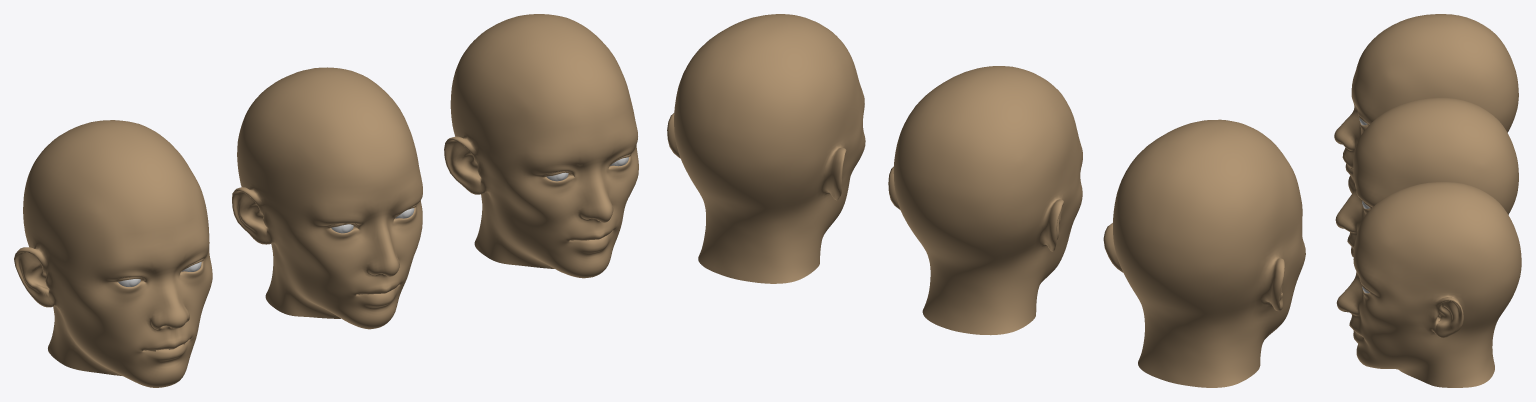
The model's file is headall.fbx.
3 renders of one model, left to right at view 1: azimuth 30°, elevation 25°; view 2: azimuth 150°, elevation 25°; view 3: azimuth 270°, elevation 25°, orthographic. The views are drawn at different scales.
Parts seen in each view (by area): view 1: HG_Body, HG_Body.002, HG_Body.004; view 2: HG_Body, HG_Body.002, HG_Body.004; view 3: HG_Body.002, HG_Body, HG_Body.004.
Part boxes in pixels (bbox=[...]): HG_Body: bbox=[14, 120, 212, 387]; HG_Body.002: bbox=[444, 14, 638, 278]; HG_Body.004: bbox=[232, 67, 422, 329]; HG_Body: bbox=[1103, 119, 1305, 387]; HG_Body.002: bbox=[667, 14, 865, 283]; HG_Body.004: bbox=[888, 66, 1082, 335]; HG_Body.002: bbox=[1336, 182, 1521, 387]; HG_Body: bbox=[1334, 14, 1518, 193]; HG_Body.004: bbox=[1335, 97, 1518, 256].
Size of the model in its own units: 66.36 by 23.58 by 22.28.
